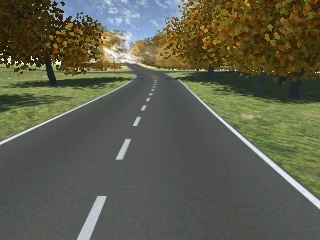Line slipt: (116, 104, 146, 161)
